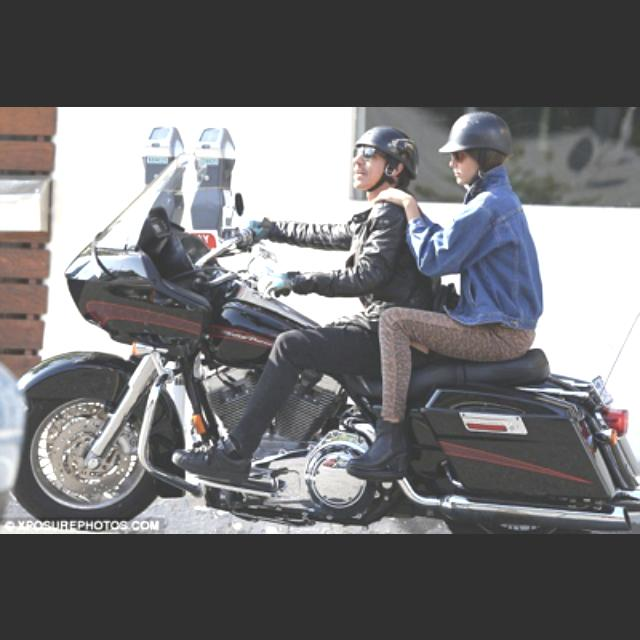With Helmet: (442, 111, 514, 185), (350, 120, 420, 194)
